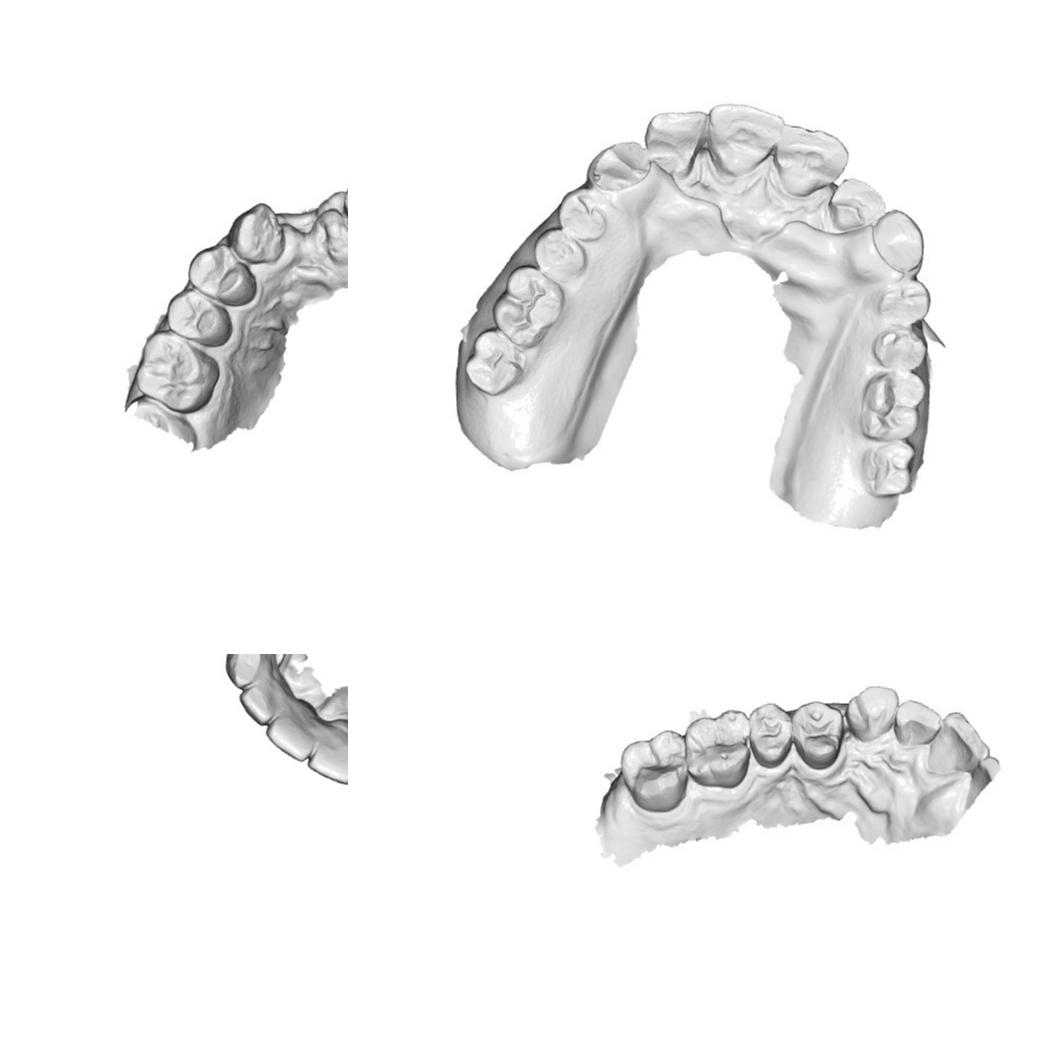canine: (870, 206, 928, 274), (230, 202, 286, 266), (584, 136, 649, 190), (845, 683, 900, 744), (223, 654, 276, 689)
incisor: (768, 121, 849, 198), (703, 102, 786, 177), (642, 106, 708, 177), (933, 708, 990, 773), (828, 174, 887, 231), (264, 710, 313, 762), (892, 698, 941, 749), (306, 737, 348, 786), (238, 686, 283, 727)
molar: (134, 329, 223, 414), (491, 265, 565, 347), (619, 729, 690, 813), (682, 707, 752, 788), (858, 372, 925, 441), (463, 327, 528, 396), (859, 442, 914, 499)
premolar: (186, 244, 260, 307), (790, 699, 848, 771), (161, 289, 229, 347), (745, 699, 796, 771), (870, 277, 934, 326), (532, 228, 585, 283), (558, 188, 610, 243), (872, 326, 932, 372)
